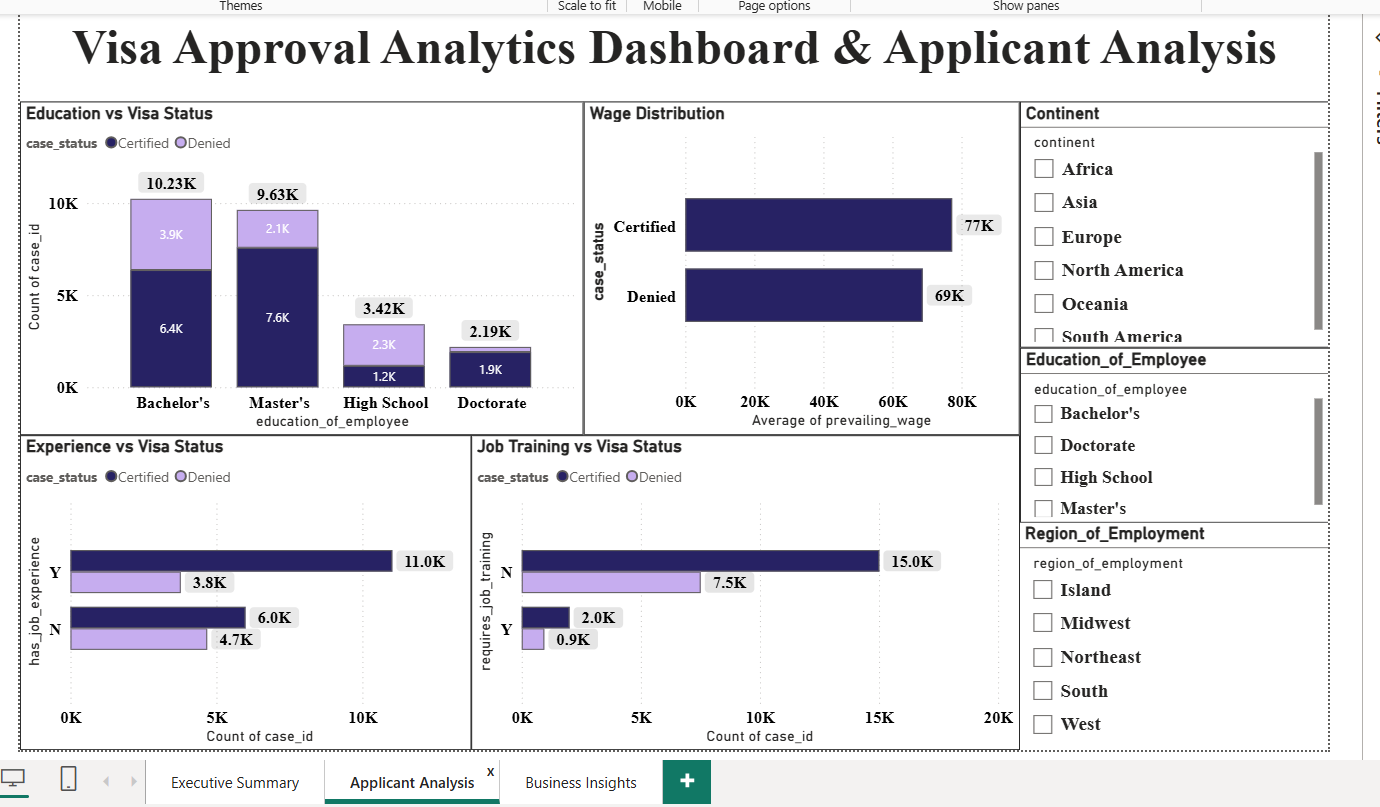

The page's visual inventory and layout, read from the dashboard file:
{"tool":"powerbi","page":{"name":"Applicant Analysis","canvas":[1280,720],"ordinal":1},"visuals":[{"type":"columnChart","title":"Education vs Visa Status","fields":{"Category":["Visadataset.education_of_employee"],"Y":["CountNonNull(Visadataset.case_id)"],"Series":["Visadataset.case_status"]},"box":[0,85.6,551.5,326.5],"z":0},{"type":"clusteredBarChart","title":"Experience vs Visa Status","fields":{"Category":["Visadataset.has_job_experience"],"Series":["Visadataset.case_status"],"Y":["CountNonNull(Visadataset.case_id)"]},"box":[0,412.1,441.4,308.2],"z":1000},{"type":"clusteredBarChart","title":"Job Training vs Visa Status","fields":{"Category":["Visadataset.requires_job_training"],"Series":["Visadataset.case_status"],"Y":["CountNonNull(Visadataset.case_id)"]},"box":[441.4,412.1,536.8,308.2],"z":2000},{"type":"barChart","title":"Wage Distribution","fields":{"Category":["Visadataset.case_status"],"Y":["Avg(Visadataset.prevailing_wage)"]},"box":[551.5,85.6,426.8,326.5],"z":3000},{"type":"slicer","title":"Continent","fields":{"Values":["Visadataset.continent"]},"box":[978.3,85.6,302,240.9],"z":4000},{"type":"slicer","title":"Education_of_Employee","fields":{"Values":["Visadataset.education_of_employee"]},"box":[978.3,326.5,302,171.2],"z":5000},{"type":"slicer","title":"Region_of_Employment","fields":{"Values":["Visadataset.region_of_employment"]},"box":[978.3,497.7,302,222.6],"z":6000},{"type":"textbox","box":[0,0,1280.3,74.6],"z":7000}]}

Visuals, with their boxes in screenshot pixels (x1, y1, x2, y2):
"Education vs Visa Status" columnChart: 14:99:580:433
"Experience vs Visa Status" clusteredBarChart: 14:433:467:749
"Job Training vs Visa Status" clusteredBarChart: 467:433:1018:749
"Wage Distribution" barChart: 580:99:1018:433
"Continent" slicer: 1018:99:1327:346
"Education_of_Employee" slicer: 1018:346:1327:521
"Region_of_Employment" slicer: 1018:521:1327:749
textbox: 14:11:1327:87
